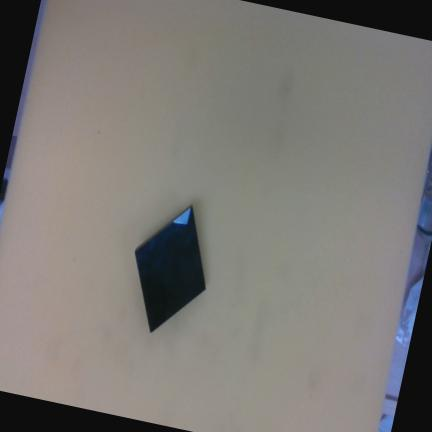tile: (129, 206, 211, 335)
